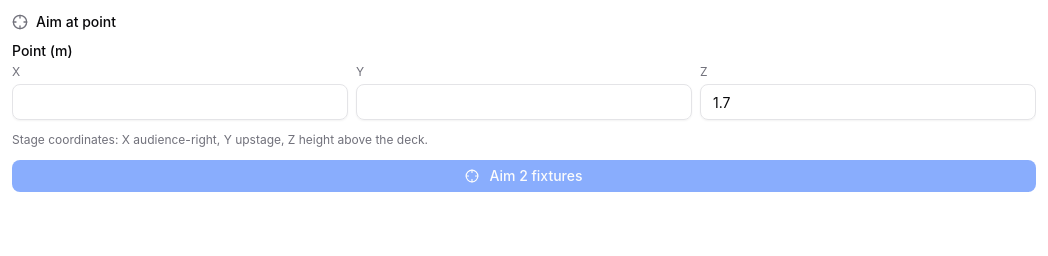
Scenario: StageAimControls › sends the typed point for every fixture, with z defaulting to head height
This screenshot has width=1048, height=256.
Expected: the button "Aim 2 fixtures" is disabled, [12,160,1036,192]
Type "1.5" into the number field labelled "X" at (180,102), box [12,84,348,120]
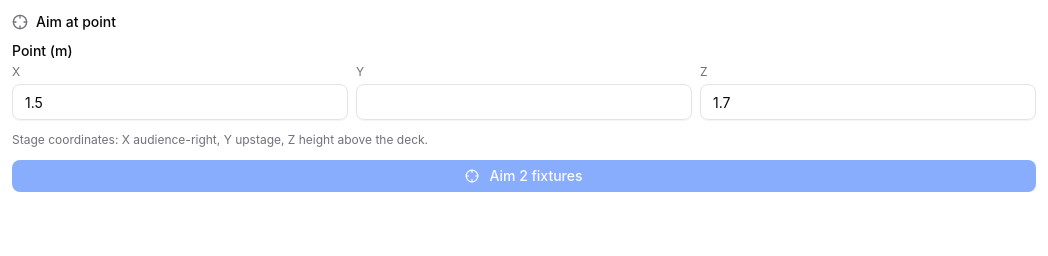
Type "-2" into the number field labelled "Y" at (524,102), box [356,84,692,120]
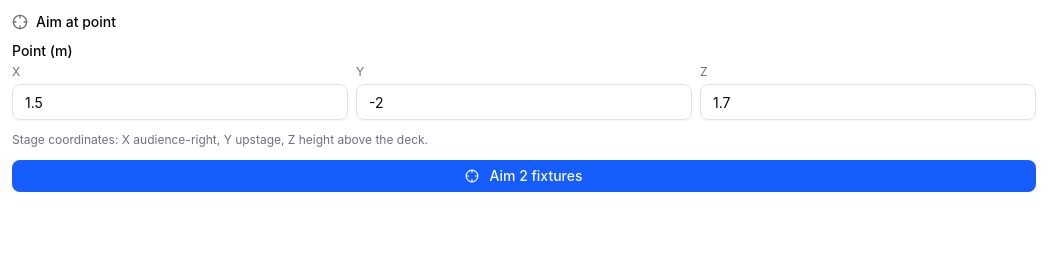
Result: the button "Aim 2 fixtures" is enabled
Click the button "Aim 2 fixtures" at (524,176), box [12,160,1036,192]
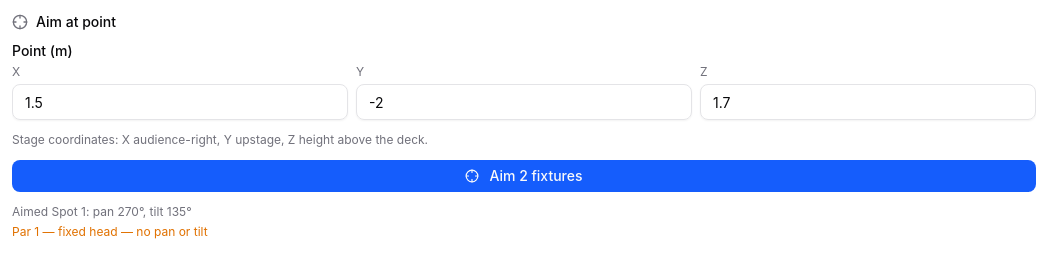
Result: the text "Aimed Spot 1: pan 270°, tilt 135°" is shown at [12,204,192,219]
Result: the text "Par 1 — fixed head — no pan or tilt" is shown at [12,224,208,239]
